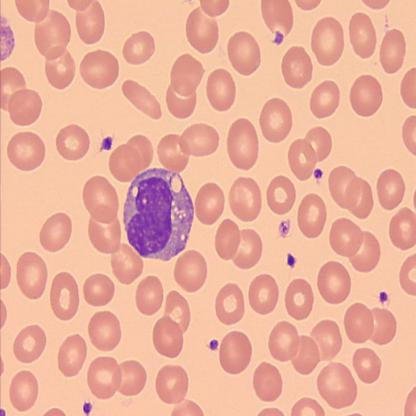Monocyte: (120, 164, 196, 263)
